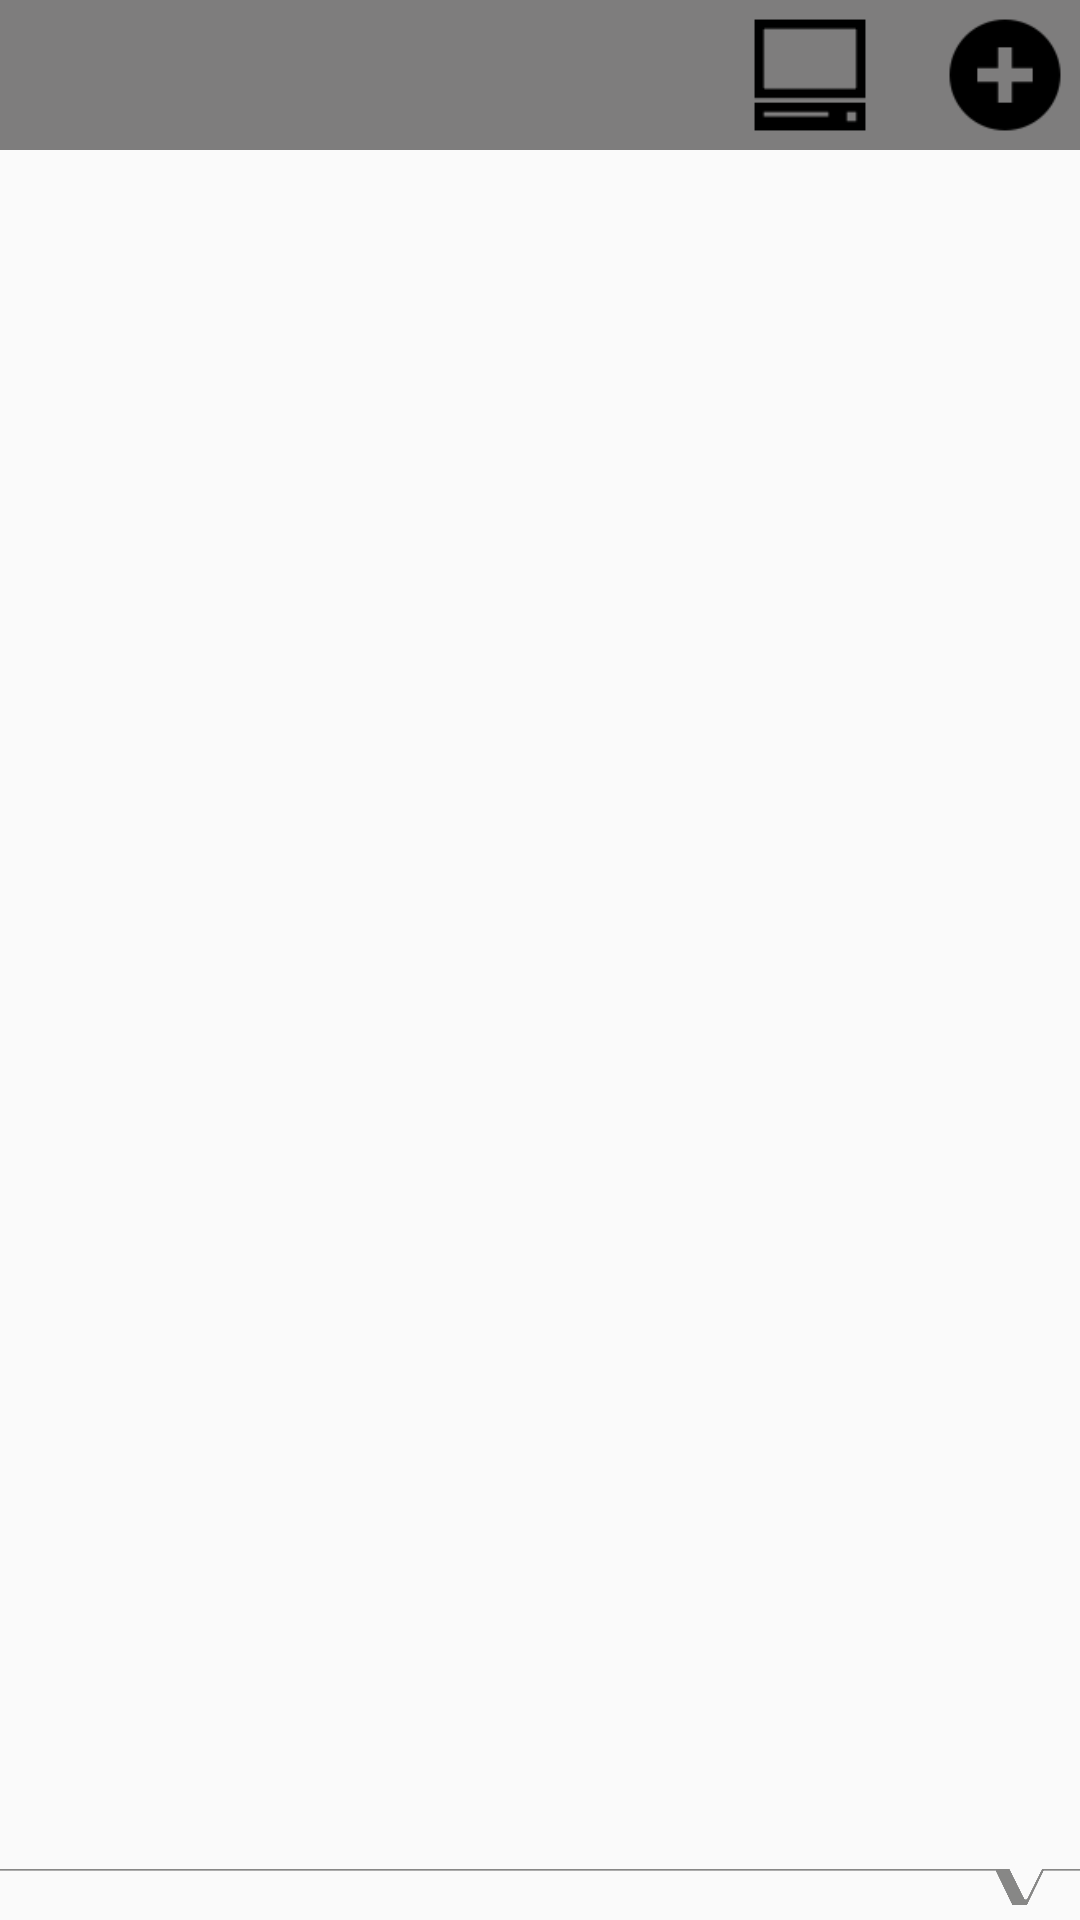

Named icons in this screenshot (1080px×1920px) and their bounding boxes, bbox=(x1, y1, x2, y2):
add: bbox=(949, 19, 1061, 131)
setip: bbox=(754, 19, 866, 131)
